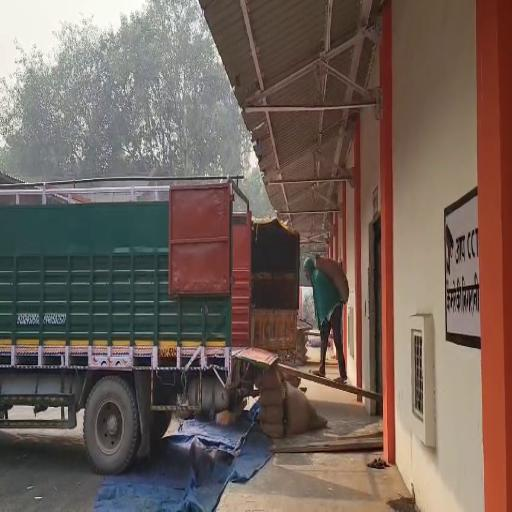bag: (314, 252, 350, 306)
